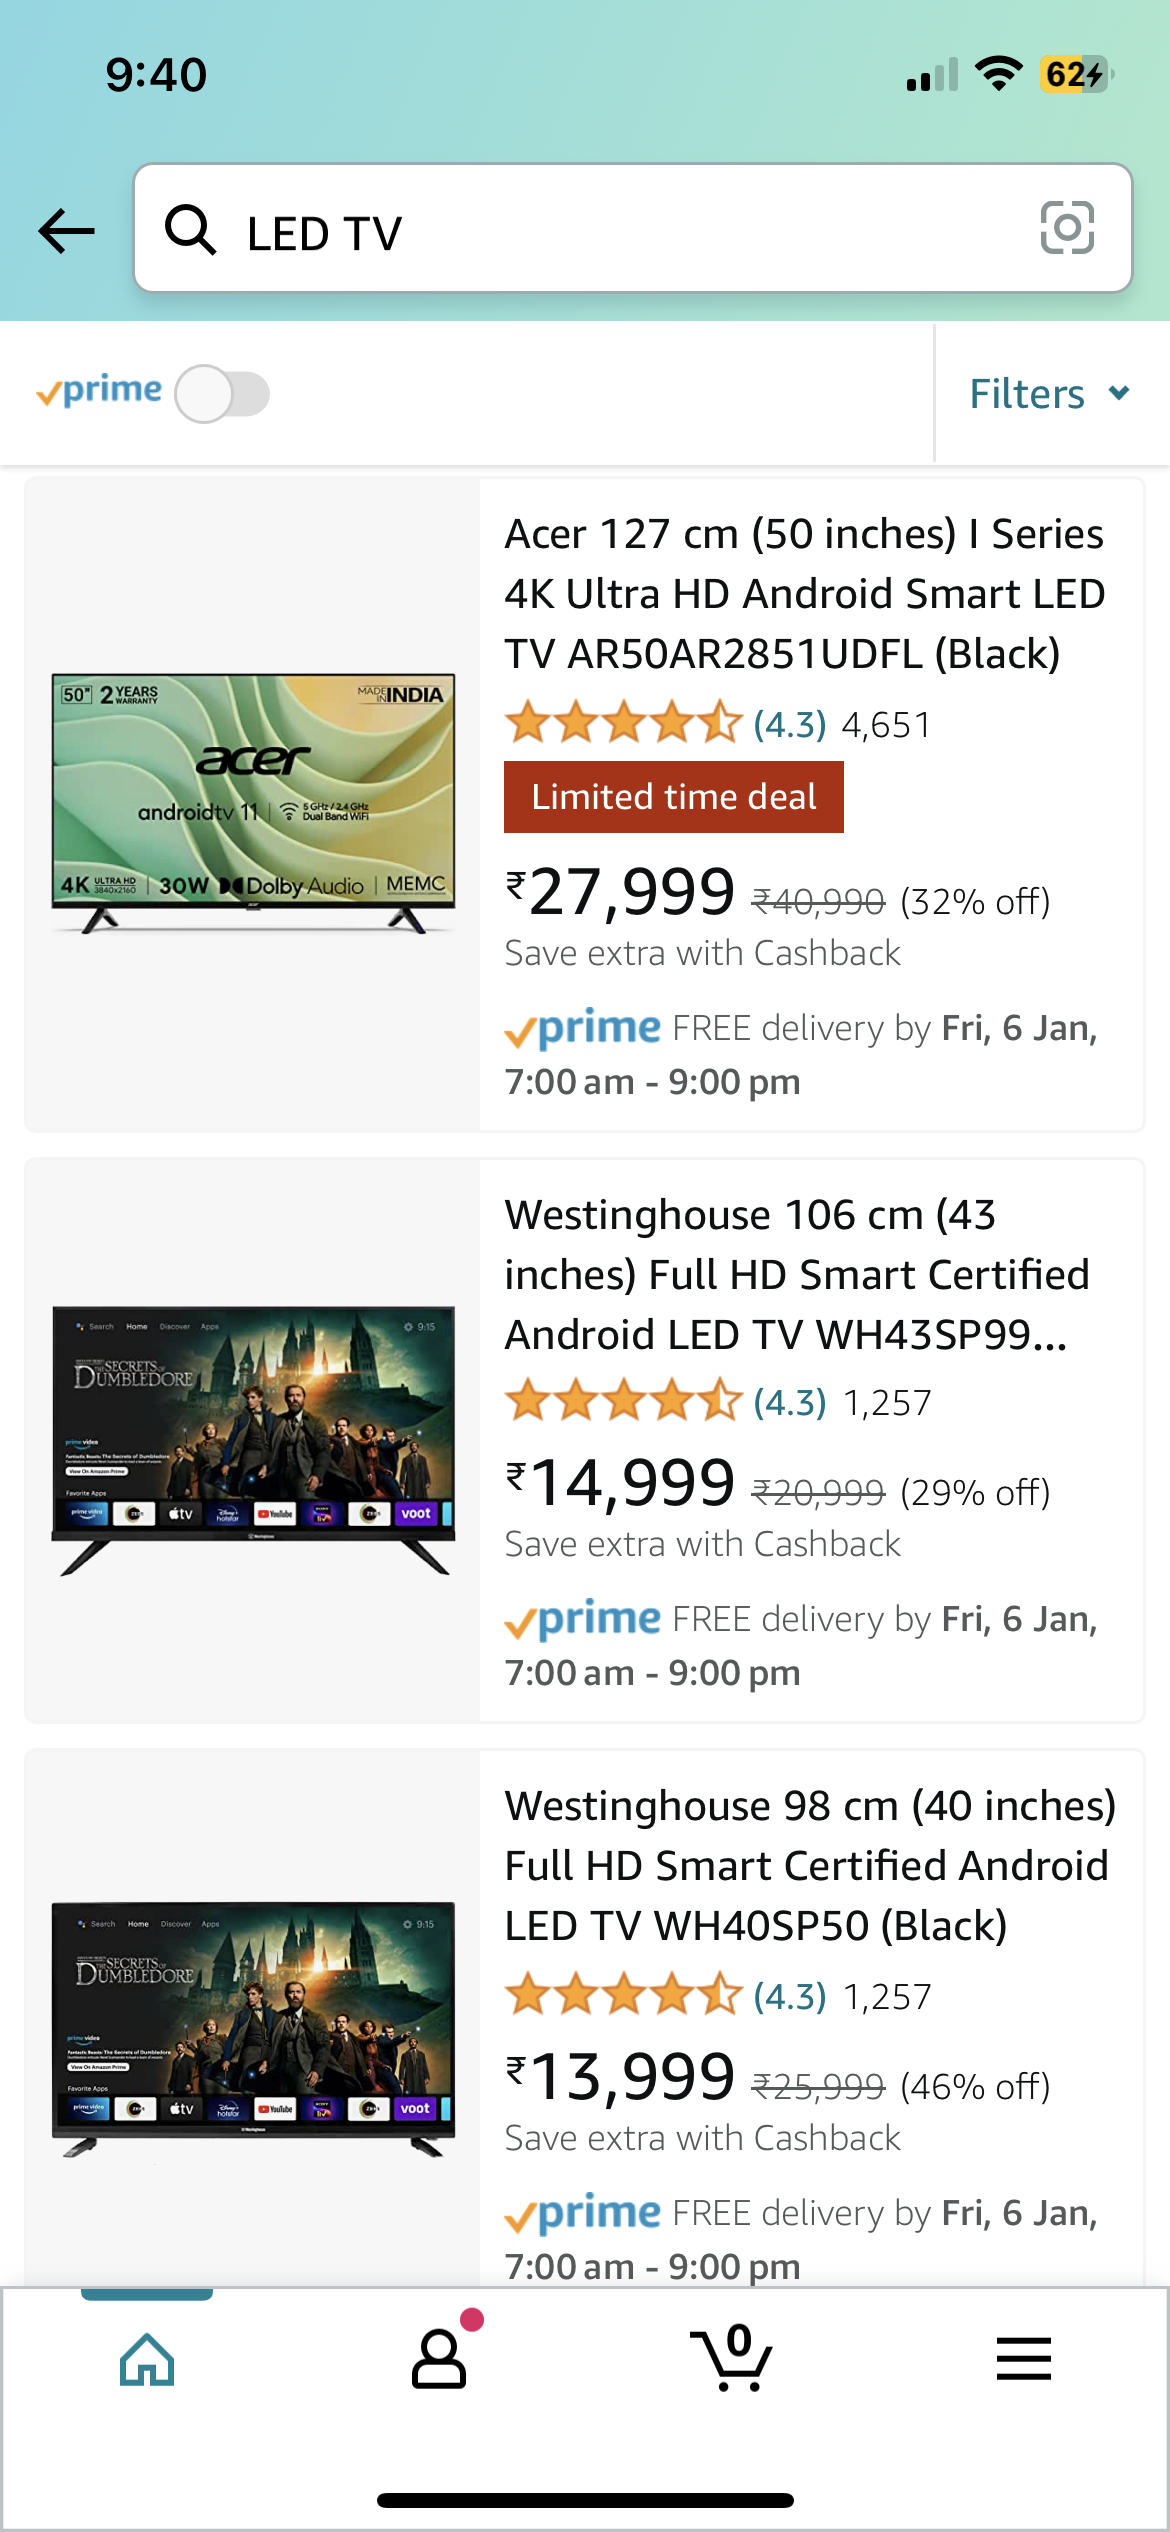LEDTV: (36, 1292, 466, 1592), (40, 1888, 470, 2177), (40, 656, 466, 940)
